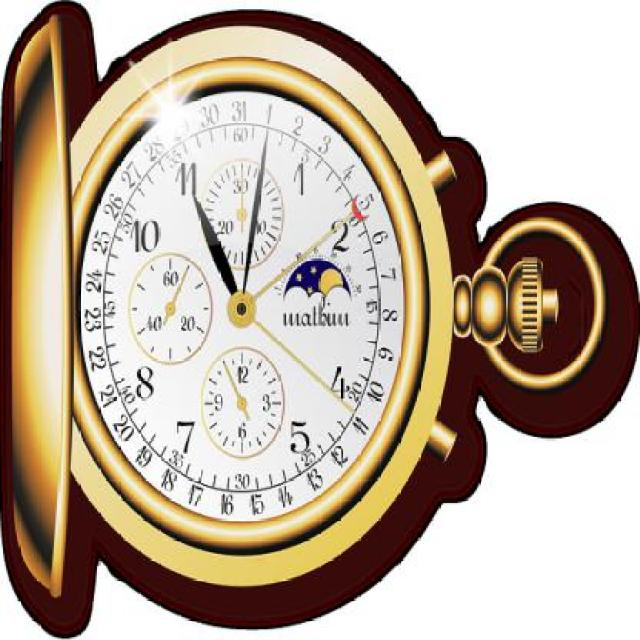clock: (89, 91, 415, 506)
